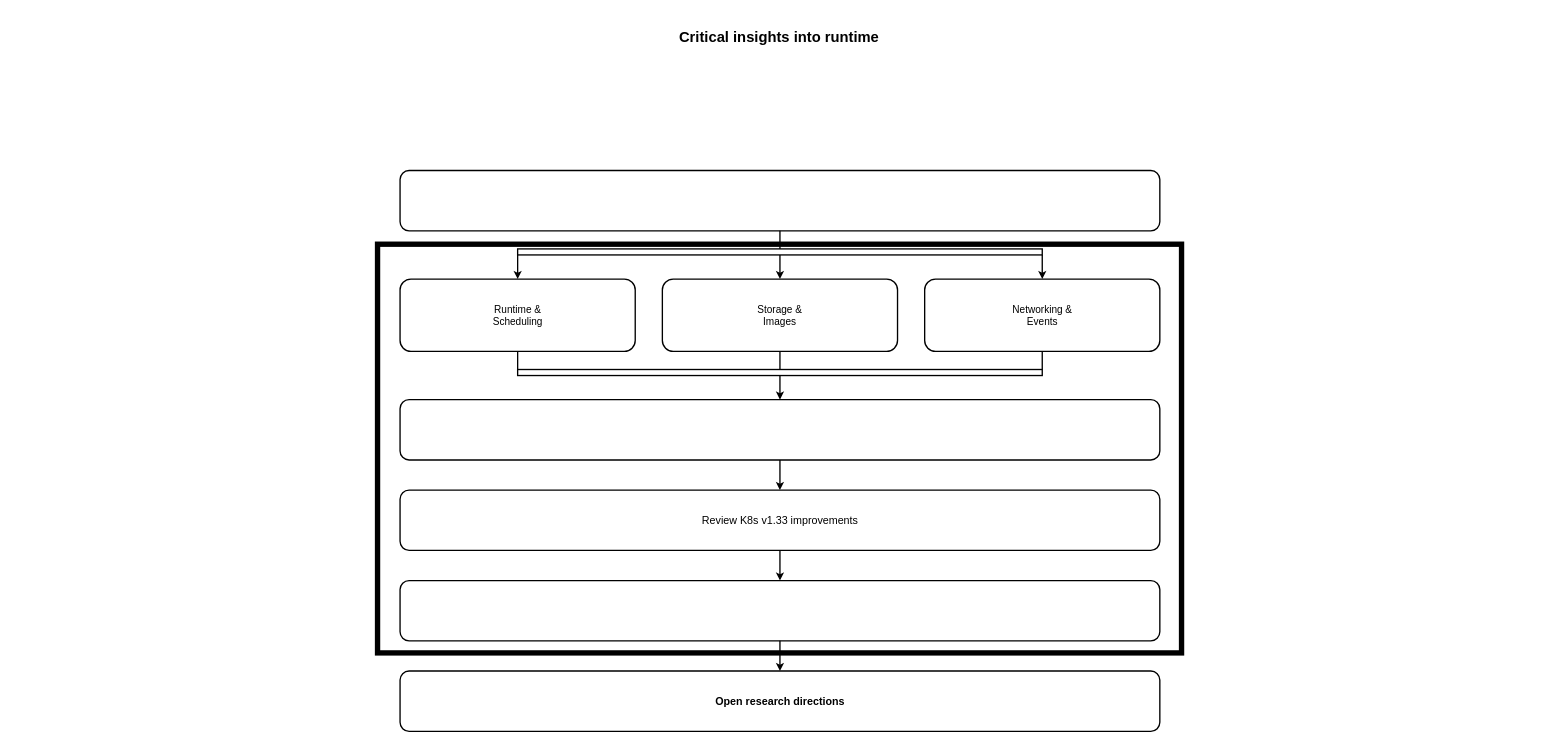
Image size: 1558x744. Some labels were removed from this diagram. The centre of each missing label's shape, as x and y in pixels:
"Identify existing limitations" goes at (779,429).
"KUBERNETES" goes at (779,200).
"What remains unresolved?" goes at (779,610).
